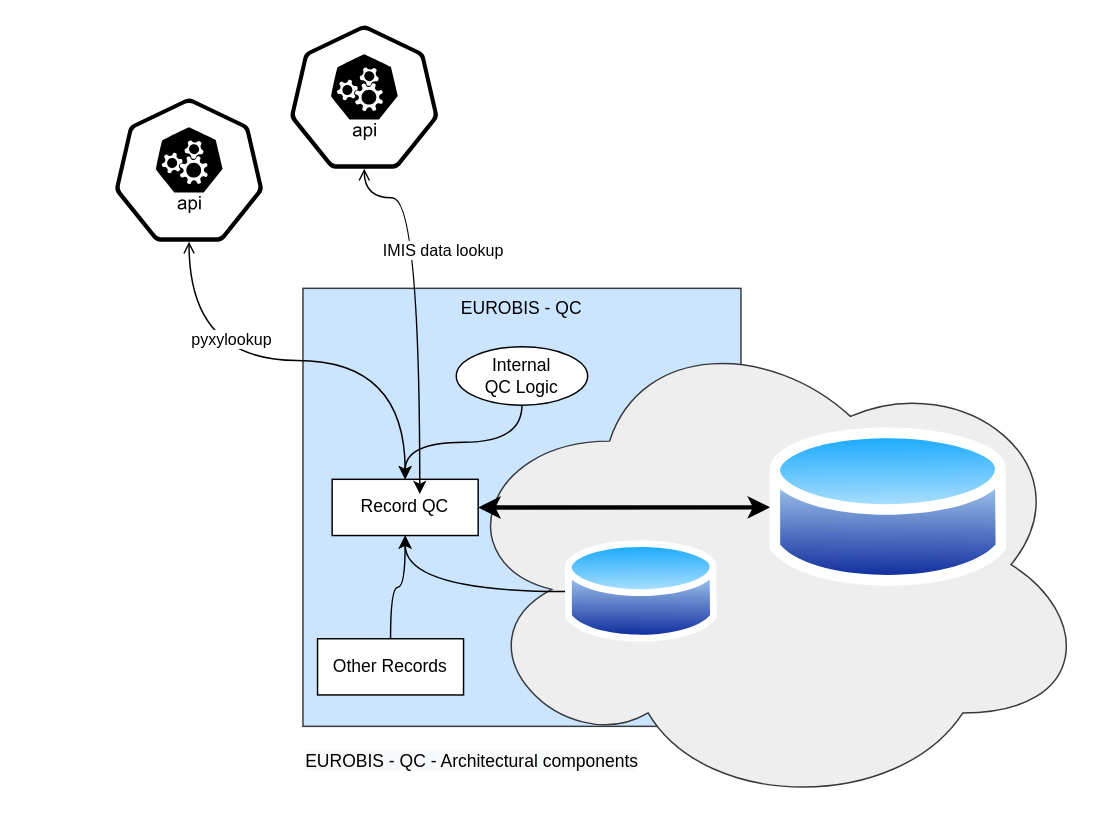
The diagram is 1117 pixels wide and 838 high, and some of its shapes have lost their labels. Here are the shapes that lost their labels. From the top down, the centre of each, then its label:
At point (887, 506): "Eurobis - MSSQL".
At point (641, 591): "Lookup Database (Internal)".
